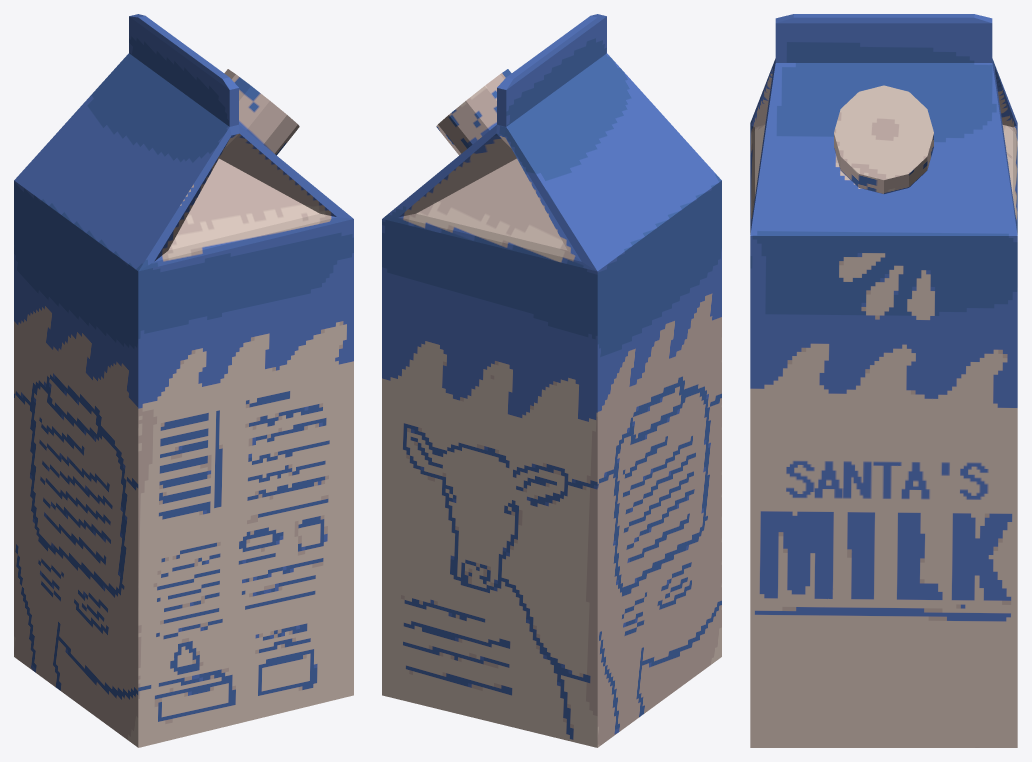
The model's file is milk.fbx.
3 views of the same model, side by side, from view 1: azimuth 30°, elevation 25°; view 2: azimuth 150°, elevation 25°; view 3: azimuth 270°, elevation 25° (orthographic). The views are drawn at different scales.
Visible parts, largest first — view 1: LowpolyMilk:MilkGeo; view 2: LowpolyMilk:MilkGeo; view 3: LowpolyMilk:MilkGeo.
Boxes of the visible parts, x1,y1,x2,y2 form: LowpolyMilk:MilkGeo: (14,14,353,747); LowpolyMilk:MilkGeo: (382,14,721,747); LowpolyMilk:MilkGeo: (750,14,1017,747).
Size of the model in its own units: 8.05 by 22.44 by 8.05.
